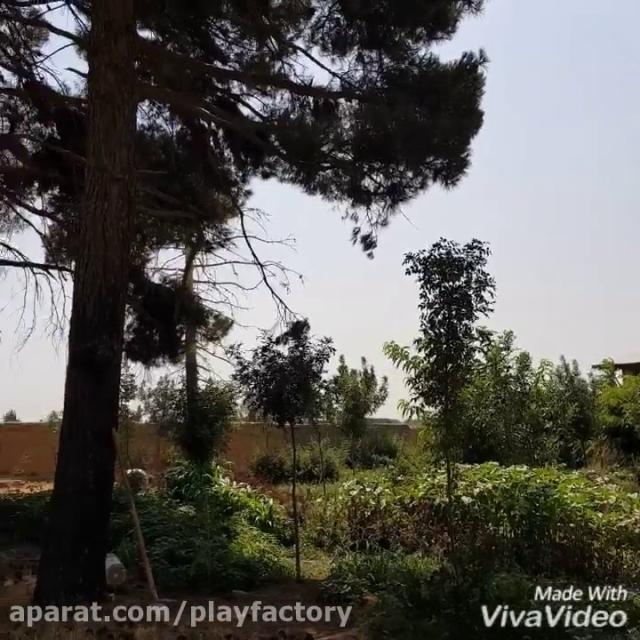drone: (278, 276, 288, 288)
